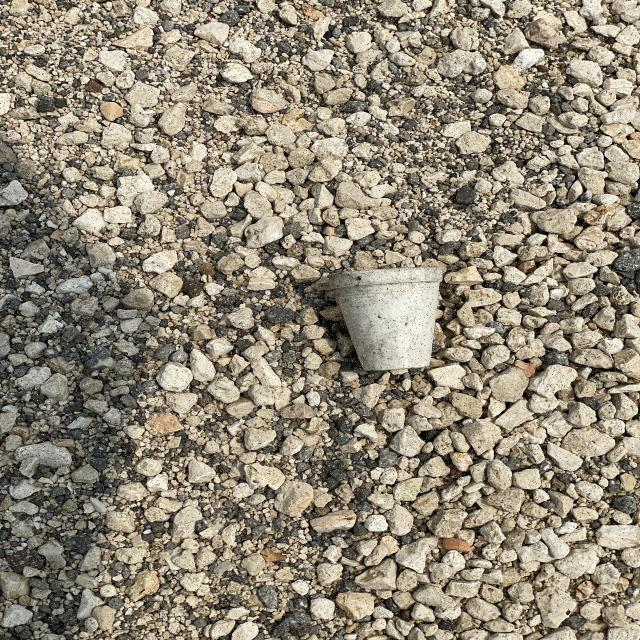styrofoam_waste: (329, 268, 444, 373)
